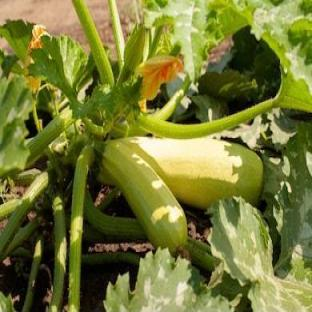Zucchini: (118, 137, 263, 208), (99, 141, 187, 254)
